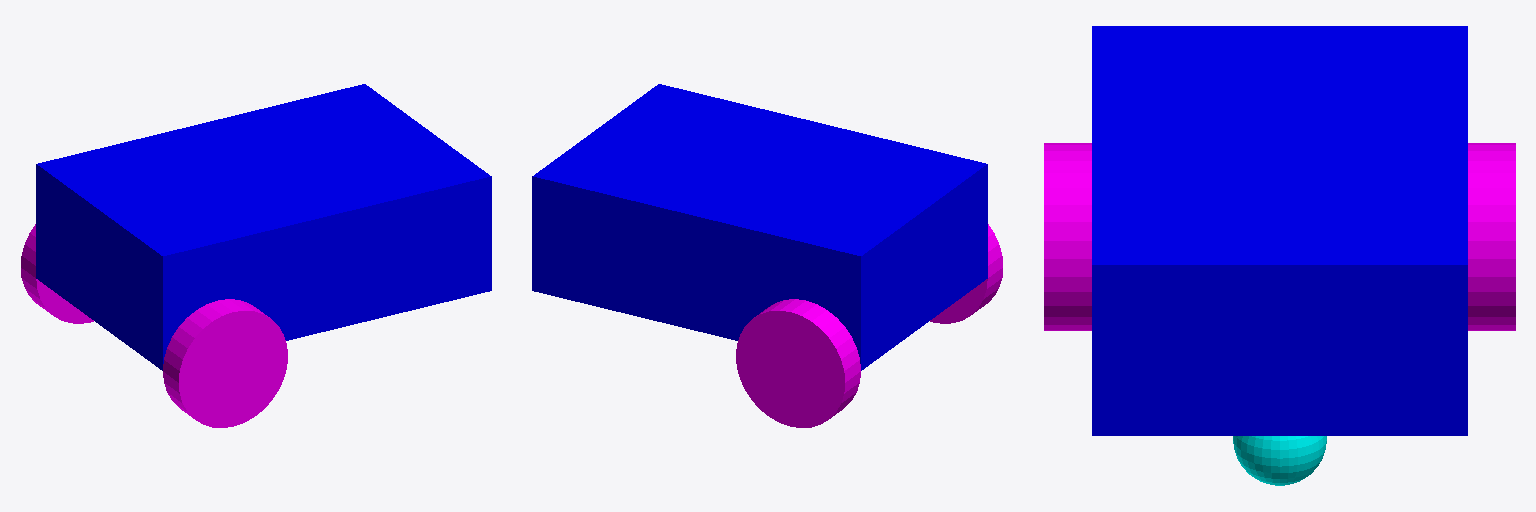
robot.urdf — first_robot:
<?xml version="1.0"?>
<robot name="first_robot">
    <material name="my_color">
        <color rgba="0 0 1 1"/>
    </material>
        <material name="my_color2">
        <color rgba="1 0 1 1"/>
    </material>
        <material name="my_color3">
        <color rgba="0 1 1 1"/>
    </material>
<link name="base_footprint">
</link>
<joint name="base_joint" type="fixed">
<parent link="base_footprint"/>
<child link="base_link"/>
<origin xyz="0 0 0.1" rpy="0 0 0"/>
</joint>
<link name="base_link">
        <visual>
        <geometry>
            <box size="0.6 0.4 0.2"/>
        </geometry>
        <material name="my_color" />
    <origin xyz="0 0 0.1" rpy="0 0 0"/>
    </visual>
    <collision>
            <geometry>
                <box size="0.6 0.4 0.2" />
            </geometry>
            <origin xyz="0 0 0.1" rpy="0 0 0" />
            </collision>
    <inertial>
            <origin xyz="0 0 0.1" rpy="0 0 0" />
            <mass value="5" />
            <inertia ixx="0.083" ixy="0" ixz="0"
                iyy="0.167" iyz="0"
                izz="0.217" />
        </inertial>
</link>
<link name="cylinder_link">
    <visual>
        <geometry>
            <cylinder radius="0.1" length="0.05"/>
        </geometry>
    <origin xyz="0 0 0" rpy="0 0 0"/>
    <material name="my_color2"/>
    </visual>
    <collision>
            <geometry>
                <cylinder radius="0.1" length="0.05"/>
            </geometry>
            <origin xyz="0 0 0" rpy="0 0 0" />
            </collision>    
    <inertial>
            <origin xyz="0 0 0" rpy="0 0 0" />
            <mass value="1" />
            <inertia ixx="0.00271" ixy="0" ixz="0" 
                iyy="0.00271" iyz="0"
                izz="0.005" />
        </inertial>
</link>
<joint name="base_cylinder_joint" type="continuous">
<parent link="base_link"/>
<child link="cylinder_link"/>
<origin xyz="-0.2 0.225 0" rpy="1.5709 0 0"/>
<axis xyz="0 0 1"/>
</joint>
<link name="cylinder2_link">
    <visual>
        <geometry>
            <cylinder radius="0.1" length="0.05"/>
        </geometry>
    <origin xyz="0 0 0" rpy="0 0 0"/>
    <material name="my_color2"/>
    </visual>
    <collision>
            <geometry>
                <cylinder radius="0.1" length="0.05"/>
            </geometry>
            <origin xyz="0 0 0" rpy="0 0 0" />
            </collision> 
    <inertial>
            <origin xyz="0 0 0" rpy="0 0 0" />
            <mass value="1" />
            <inertia ixx="0.00271" ixy="0" ixz="0" 
                iyy="0.00271" iyz="0"
                izz="0.005" />
        </inertial>
</link>
<joint name="base_cylinder2_joint" type="continuous">
<parent link="base_link"/>
<child link="cylinder2_link"/>
<origin xyz="-0.2 -0.225 0" rpy="1.5709 0 0"/>
<axis xyz="0 0 1"/>
</joint>
<link name="sphere_link">
    <visual>
        <geometry>
            <sphere radius="0.05"/>
        </geometry>
    <origin xyz="0 0 0" rpy="0 0 0"/>
    <material name="my_color3"/>
    </visual>
    <collision>
            <geometry>
                <sphere radius="0.05"/>
            </geometry>
            <origin xyz="0 0 0.0" rpy="0 0 0" />
            </collision> 
    <inertial>
            <origin xyz="0 0 0" rpy="0 0 0" />
            <mass value="0.5" />
            <inertia ixx="0.0005" ixy="0" ixz="0" 
                iyy="0.0005" iyz="0"
                izz="0.0005" />
        </inertial>
</link>
<joint name="base_sphere_joint" type="fixed">
<parent link="base_link"/>
<child link="sphere_link"/>
<origin xyz="0.2 0 -0.05" rpy="0 0 0"/>
</joint>

<gazebo reference="base_link">
    <material>Gazebo/Blue</material>
</gazebo> 
<gazebo reference="cylinder_link">
    <material>Gazebo/Black</material>
</gazebo>
<gazebo reference="cylinder2_link">
    <material>Gazebo/Black</material>
</gazebo>
<gazebo reference="sphere_link">
    <material>Gazebo/Red</material>
</gazebo>

<gazebo>
    <plugin name="diff_drive_controller"
    filename="libgazebo_ros_diff_drive.so">
    <!-- Update rate in Hz -->
    <update_rate>50</update_rate>
    <!-- wheels -->
    <left_joint>base_cylinder2_joint</left_joint>
    <right_joint>base_cylinder_joint</right_joint>
    <!-- kinematics -->
    <wheel_separation>0.45</wheel_separation>
    <wheel_diameter>0.2</wheel_diameter>
    <!-- output -->
    <publish_odom>true</publish_odom>
    <publish_odom_tf>true</publish_odom_tf>
    <publish_wheel_tf>true</publish_wheel_tf>
    <odometry_topic>odom</odometry_topic>
    <odometry_frame>odom</odometry_frame>
    <robot_base_frame>base_footprint</robot_base_frame>
    </plugin>
</gazebo>
</robot>

--- What the picture shows (computed from the rendered views, not written in the file) ---
Views: 3 orthographic renders of the robot side by side, from view 1: azimuth 30°, elevation 25°; view 2: azimuth 150°, elevation 25°; view 3: azimuth 270°, elevation 25°.
Robot: first_robot — 5 links, 4 joints (2 continuous, 2 fixed); root link base_footprint; default pose: all joints at 0.
Visible links, largest first — view 1: base_link, cylinder2_link, cylinder_link; view 2: base_link, cylinder_link, cylinder2_link; view 3: base_link, cylinder_link, cylinder2_link, sphere_link.
Link boxes in pixels (left/top/right/bottom): base_link: left=36, top=84, right=491, bottom=370; cylinder2_link: left=163, top=299, right=287, bottom=427; cylinder_link: left=21, top=224, right=93, bottom=323; base_link: left=532, top=84, right=987, bottom=370; cylinder_link: left=736, top=299, right=860, bottom=427; cylinder2_link: left=930, top=224, right=1002, bottom=323; base_link: left=1092, top=26, right=1467, bottom=435; cylinder_link: left=1468, top=143, right=1515, bottom=330; cylinder2_link: left=1044, top=143, right=1091, bottom=330; sphere_link: left=1233, top=436, right=1326, bottom=485.
Bounding box of the posed robot: 0.6 × 0.5 × 0.3 m (x, y, z).
Geometry: primitives only (box / cylinder / sphere), no mesh files.
